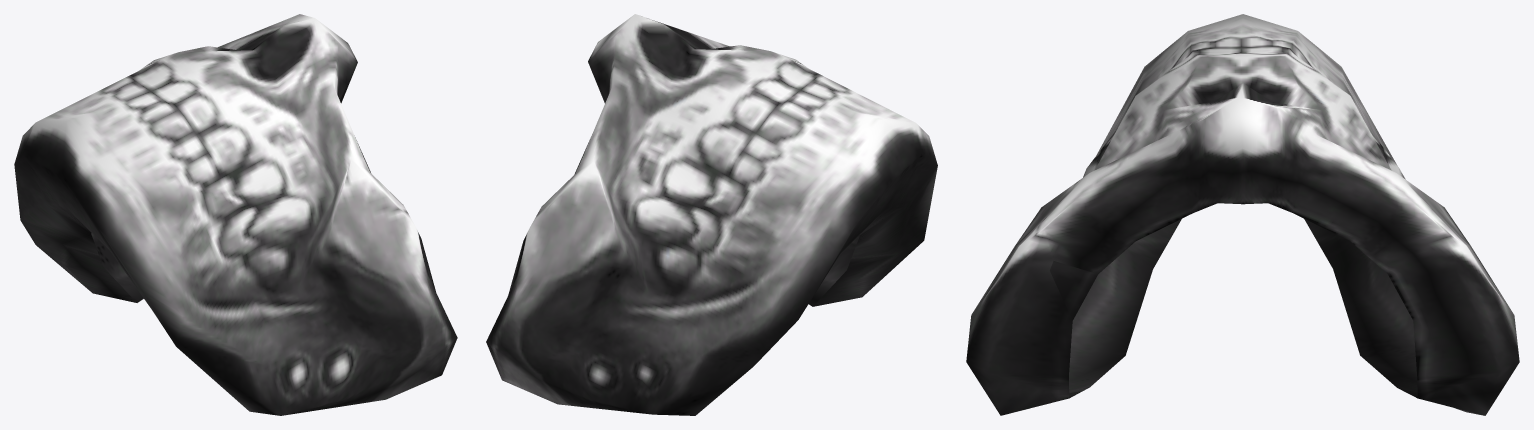
File: JawBoneMask_Ground.fbx
3 renders of one model, left to right at view 1: azimuth 30°, elevation 25°; view 2: azimuth 150°, elevation 25°; view 3: azimuth 270°, elevation 25°, orthographic. The views are drawn at different scales.
Parts seen in each view (by area): view 1: 25_jaw mask_0.5_0_0; view 2: 25_jaw mask_0.5_0_0; view 3: 25_jaw mask_0.5_0_0.
Boxes of the visible parts, box(x1,y1,x2,y2) form: 25_jaw mask_0.5_0_0: box(14, 14, 457, 415); 25_jaw mask_0.5_0_0: box(486, 14, 937, 415); 25_jaw mask_0.5_0_0: box(966, 14, 1519, 415).
Size of the model in its own units: 0.0883 by 0.0838 by 0.1276.
